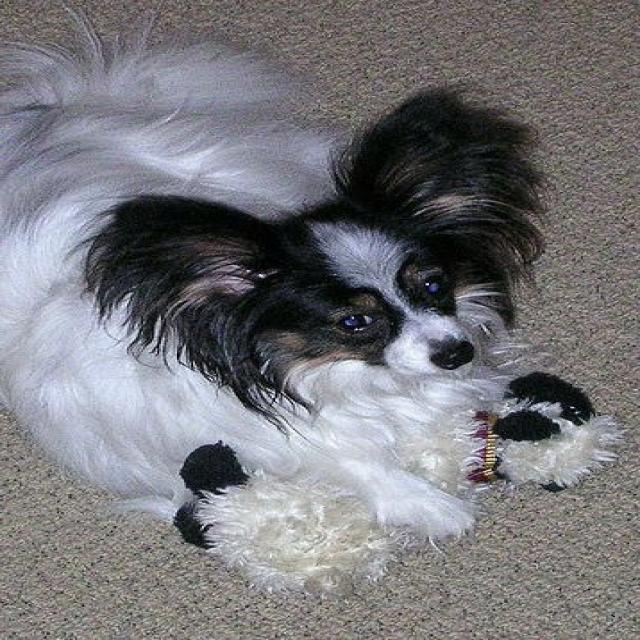papillon: (4, 9, 548, 544)
